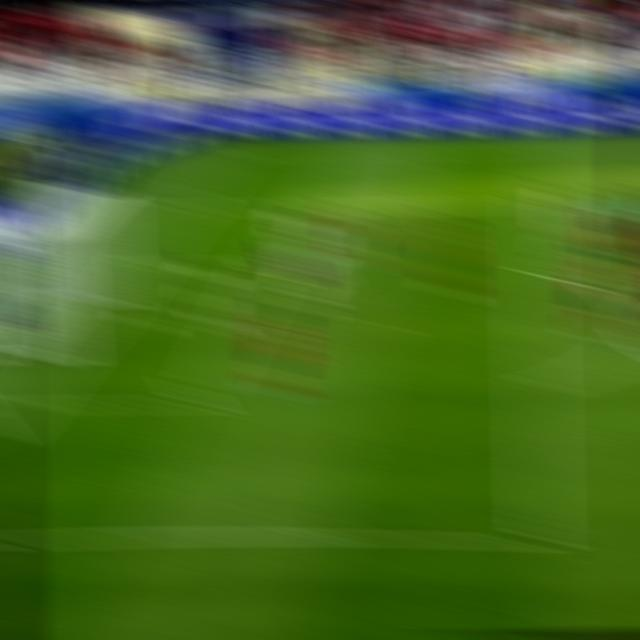bigarea_bottom_inner: (515, 519, 564, 557)
bigarea_top_inner: (510, 191, 554, 221)
bigarea_top_outter: (170, 197, 204, 215)
bottom_arc_area_intersection: (509, 371, 562, 400)
corner: (214, 145, 254, 160)
smallarea_bottom_inner: (174, 382, 219, 421)
smallarea_bottom_outter: (9, 387, 53, 419)
smallarea_top_inner: (248, 255, 284, 280)
smallarea_top_outter: (124, 250, 164, 274)
top_arc_area_intersection: (516, 263, 552, 284)
